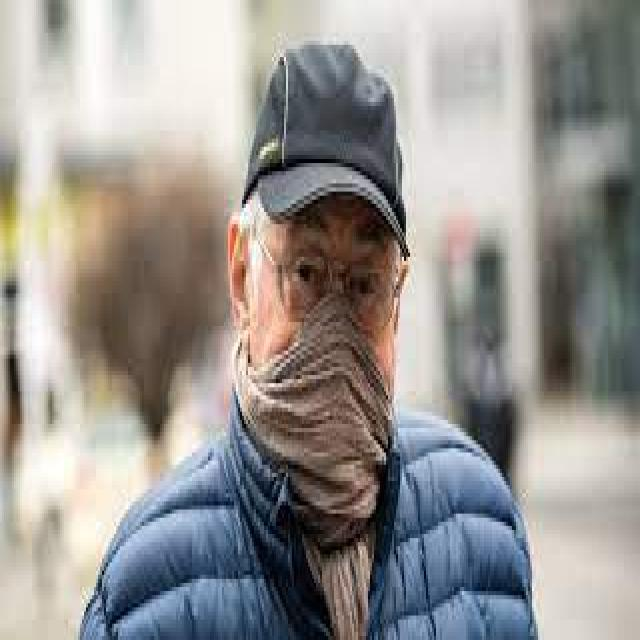cap: (224, 4, 422, 338)
